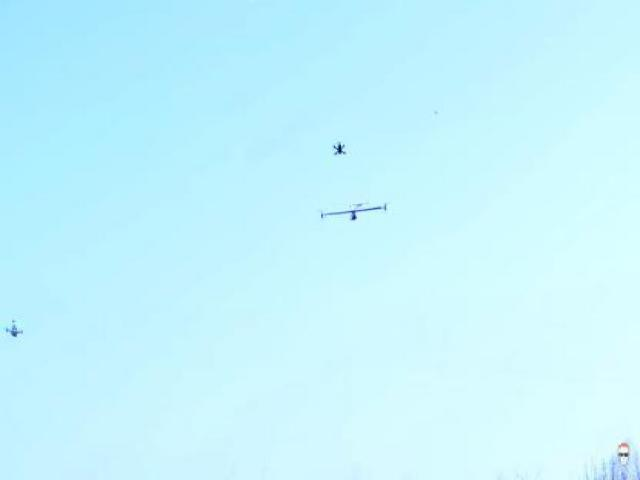uav: (313, 193, 398, 228)
